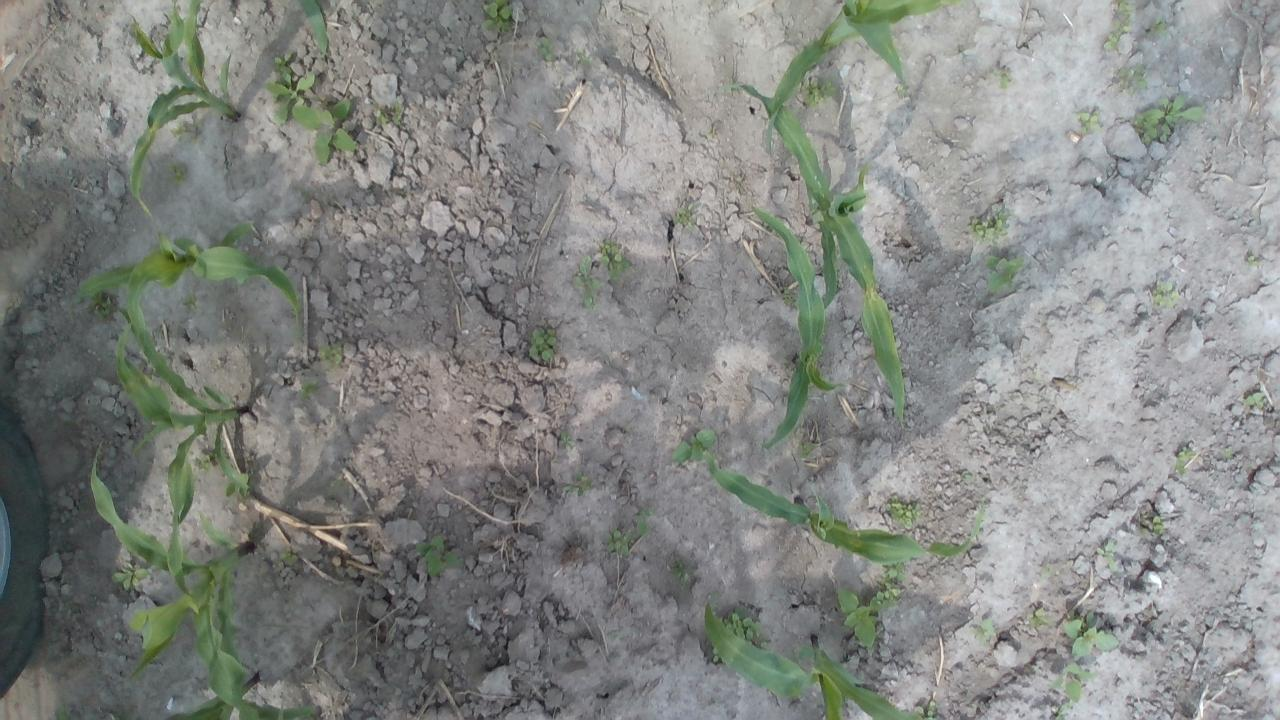Maize: (90, 440, 320, 720), (736, 80, 906, 424), (116, 266, 258, 616), (708, 463, 991, 560), (124, 0, 244, 226), (763, 0, 933, 157), (702, 601, 924, 720), (54, 231, 302, 328), (750, 205, 844, 454), (164, 671, 260, 720), (298, 0, 333, 56)
Weeds: (288, 97, 359, 166), (1136, 94, 1209, 142), (836, 588, 876, 648), (1061, 618, 1119, 657), (268, 74, 316, 121), (418, 534, 463, 576), (670, 428, 719, 464), (1052, 664, 1092, 702), (969, 203, 1009, 239), (1106, 0, 1132, 51), (987, 253, 1021, 292), (110, 562, 152, 591), (530, 328, 560, 366), (876, 564, 904, 604), (580, 256, 604, 302), (887, 494, 919, 528), (1151, 280, 1183, 313), (801, 76, 840, 103), (1116, 62, 1156, 88), (726, 612, 761, 638), (598, 242, 626, 274), (173, 114, 203, 140), (319, 336, 348, 362), (668, 552, 692, 582), (1176, 442, 1196, 476), (676, 202, 701, 228), (1097, 538, 1117, 570), (94, 292, 118, 318), (1144, 15, 1170, 38), (377, 102, 401, 126), (1031, 605, 1054, 629), (1080, 106, 1104, 128), (916, 702, 944, 720), (634, 511, 654, 536), (996, 62, 1014, 88), (486, 0, 510, 19), (193, 450, 216, 469), (975, 618, 993, 642), (610, 529, 628, 552), (273, 50, 292, 71), (167, 162, 188, 178), (537, 36, 550, 61), (302, 380, 318, 400), (277, 550, 297, 566), (180, 293, 202, 306), (797, 437, 812, 455), (1145, 516, 1164, 530), (1247, 392, 1267, 404), (575, 474, 589, 491), (559, 432, 574, 446), (1042, 562, 1059, 574), (1248, 255, 1256, 266)
